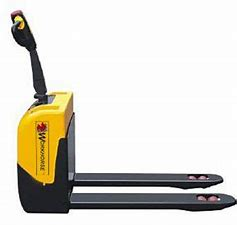Pallet Jack: (9, 9, 236, 216)
